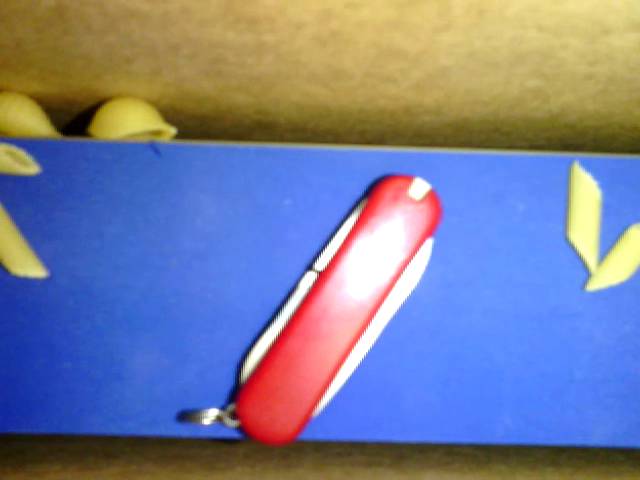penne: (1, 197, 54, 276), (582, 223, 639, 293), (568, 161, 599, 270), (1, 140, 43, 174)
shell: (85, 95, 177, 142), (1, 89, 71, 137)
